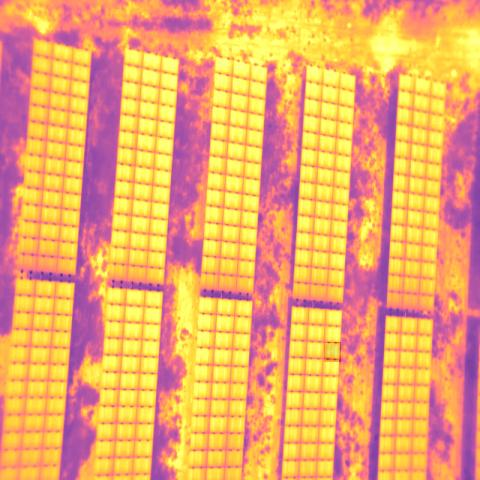fault: (324, 342, 341, 362)
